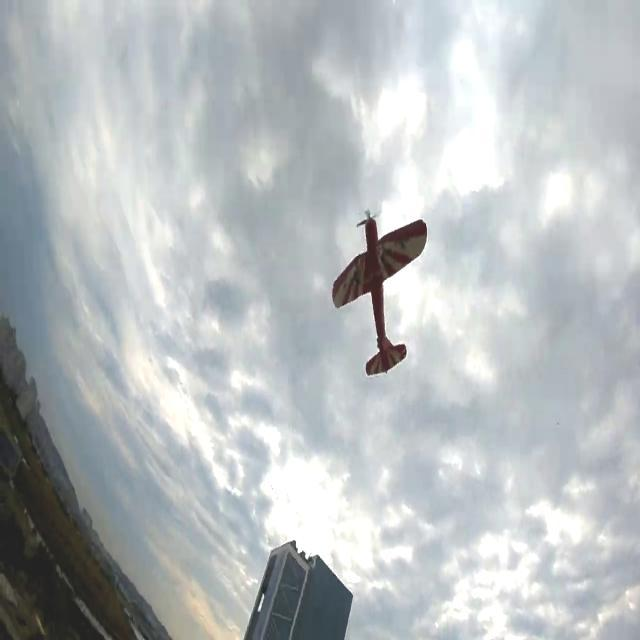iha: (312, 192, 444, 385)
